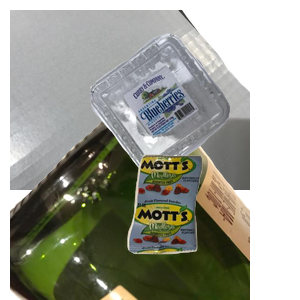cardboard: (10, 10, 250, 190)
glass: (10, 120, 250, 300)
plastic: (88, 31, 300, 198)
trash: (125, 152, 300, 300)
